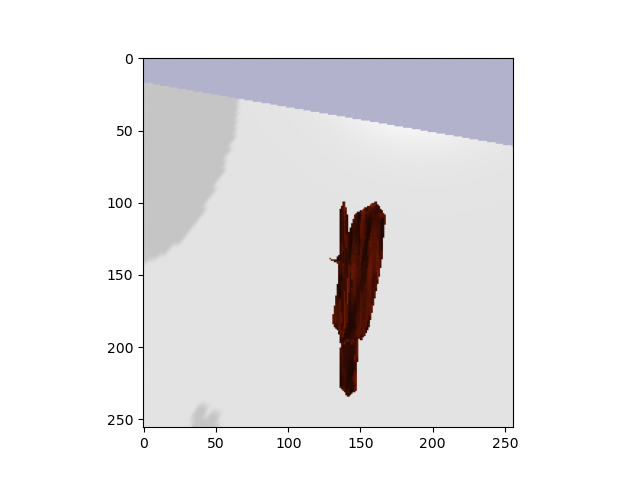v249b387_107: (324, 189, 395, 397)
